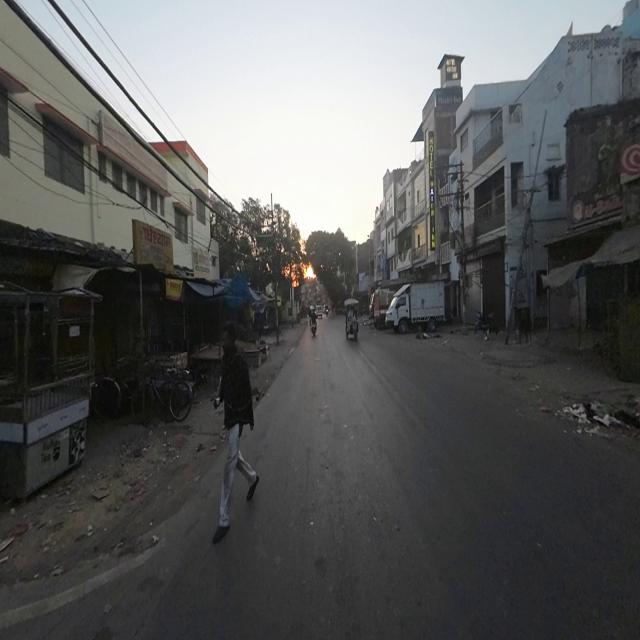Garbage: (556, 387, 640, 441)
